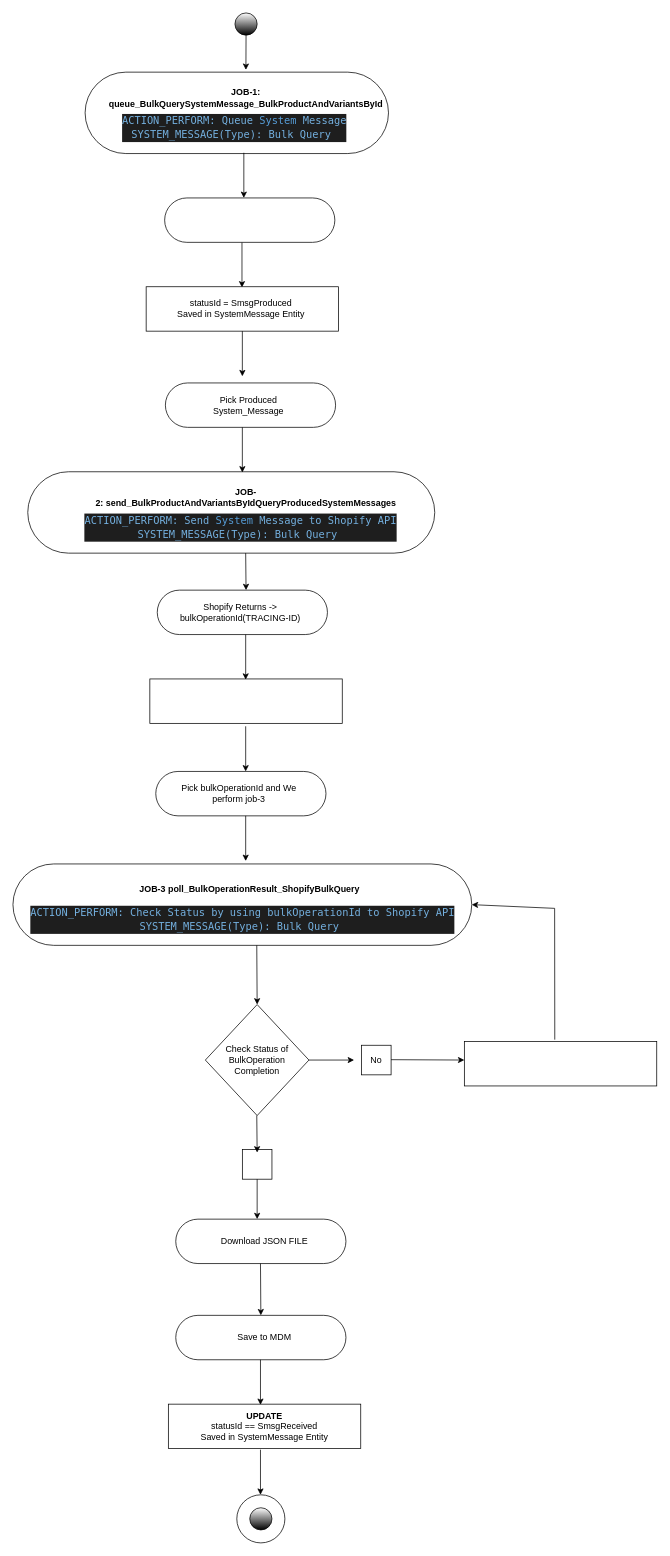
This 670x1556 diagram has some shape labels left out. The shapes that lost their labels are listed below. From the top down, each one's centre as x and y in pixels, then its label:
(x=249, y=219): Generates GraphQL Payload -> save it into SYSTEM_MESSAGE
(x=245, y=700): Save bulkOperationId statusId = SmsgSent Saved in SystemMessage Entity
(x=560, y=1063): Status == ERROR(Skip & Retry Later)
(x=257, y=1164): Yes
